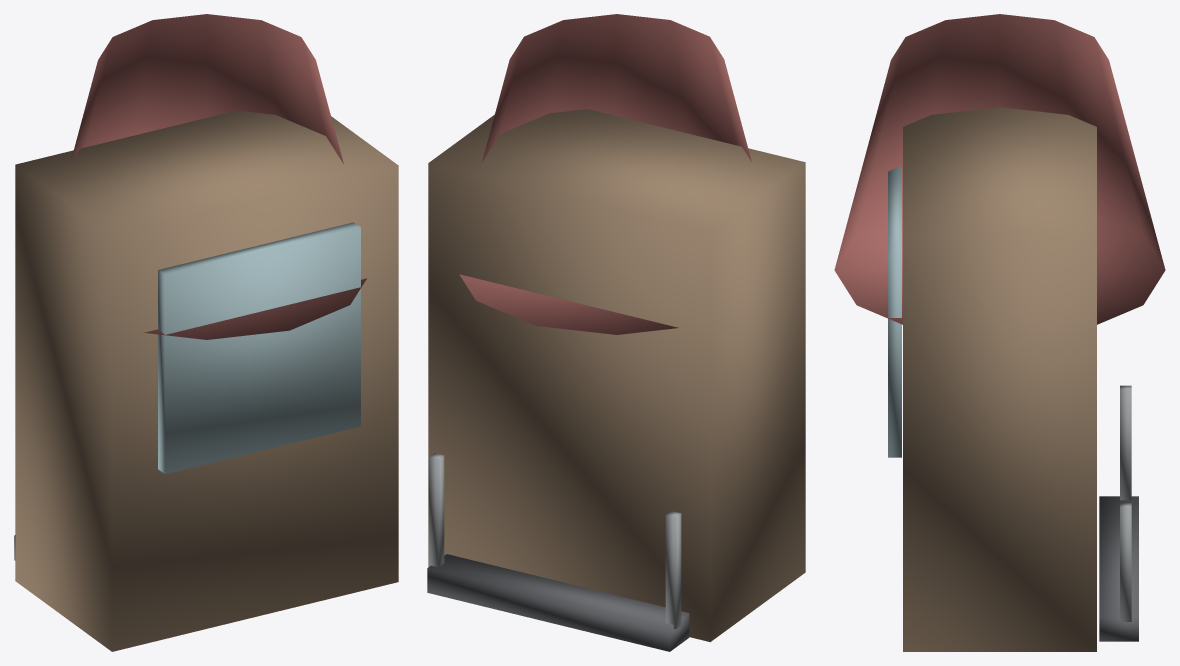
File: jukebox__reinforced.glb
3 views of the same model, side by side, from view 1: azimuth 30°, elevation 25°; view 2: azimuth 150°, elevation 25°; view 3: azimuth 270°, elevation 25° (orthographic).
Parts seen in each view (by area): view 1: world; view 2: world; view 3: world.
Part boxes in pixels (x1,y1,x2,y2): world: (14, 14, 398, 651); world: (427, 14, 805, 651); world: (834, 14, 1165, 651).
Size of the model in its own units: 0.8446 by 1.47 by 0.8446.
